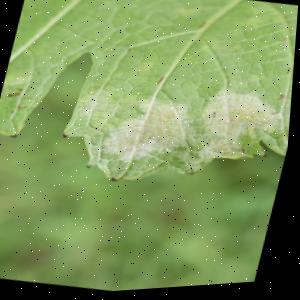Folha: (0, 0, 300, 217)
Fungo: (85, 66, 286, 209), (91, 87, 216, 196), (7, 84, 24, 97), (17, 101, 31, 110), (197, 22, 207, 30), (9, 131, 20, 138), (157, 77, 165, 86), (112, 176, 122, 183), (211, 112, 219, 120), (63, 131, 71, 139), (278, 96, 287, 103), (286, 68, 293, 77), (87, 164, 93, 168)
